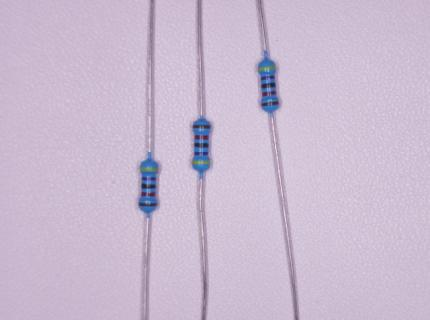Black band: (261, 82, 276, 89), (141, 184, 156, 189)
Blue band: (194, 143, 209, 148)
Brown band: (260, 101, 279, 107), (138, 202, 158, 207), (192, 124, 211, 129)
Red band: (262, 91, 277, 97), (141, 192, 156, 197), (194, 135, 209, 140)
Violet band: (260, 75, 276, 81), (141, 176, 157, 181), (194, 151, 209, 155)
Yellow band: (258, 66, 277, 72), (140, 167, 159, 171), (192, 161, 211, 165)
